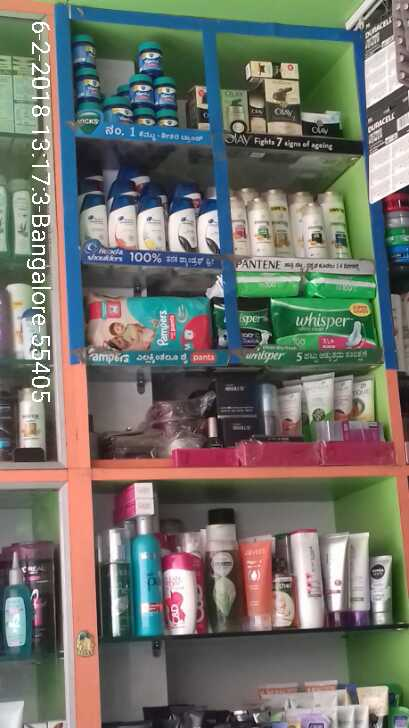vicks: (74, 34, 180, 127)
